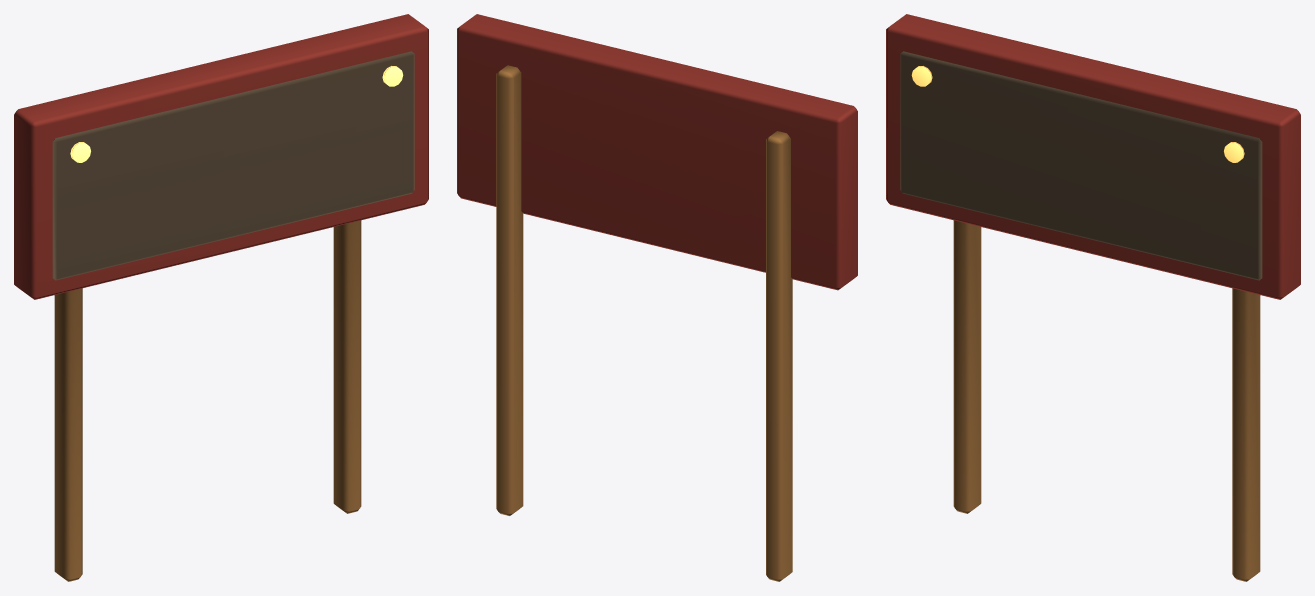
File: speedway_county_lap_board.glb
3 views of the same model, side by side, from view 1: azimuth 30°, elevation 25°; view 2: azimuth 150°, elevation 25°; view 3: azimuth 330°, elevation 25° (orthographic). The views are drawn at different scales.
Visible parts, largest first — view 1: Lap board frame, Lap board leg; view 2: Lap board frame, Lap board leg; view 3: Lap board frame, Lap board leg.
Part boxes in pixels (x1=…): Lap board frame: x1=14, y1=14, x2=428, y2=299; Lap board leg: x1=54, y1=220, x2=361, y2=581; Lap board frame: x1=457, y1=14, x2=857, y2=290; Lap board leg: x1=496, y1=65, x2=792, y2=581; Lap board frame: x1=886, y1=14, x2=1300, y2=299; Lap board leg: x1=953, y1=220, x2=1260, y2=581.
Size of the model in its own units: 2.4 by 2.79 by 0.3885.
